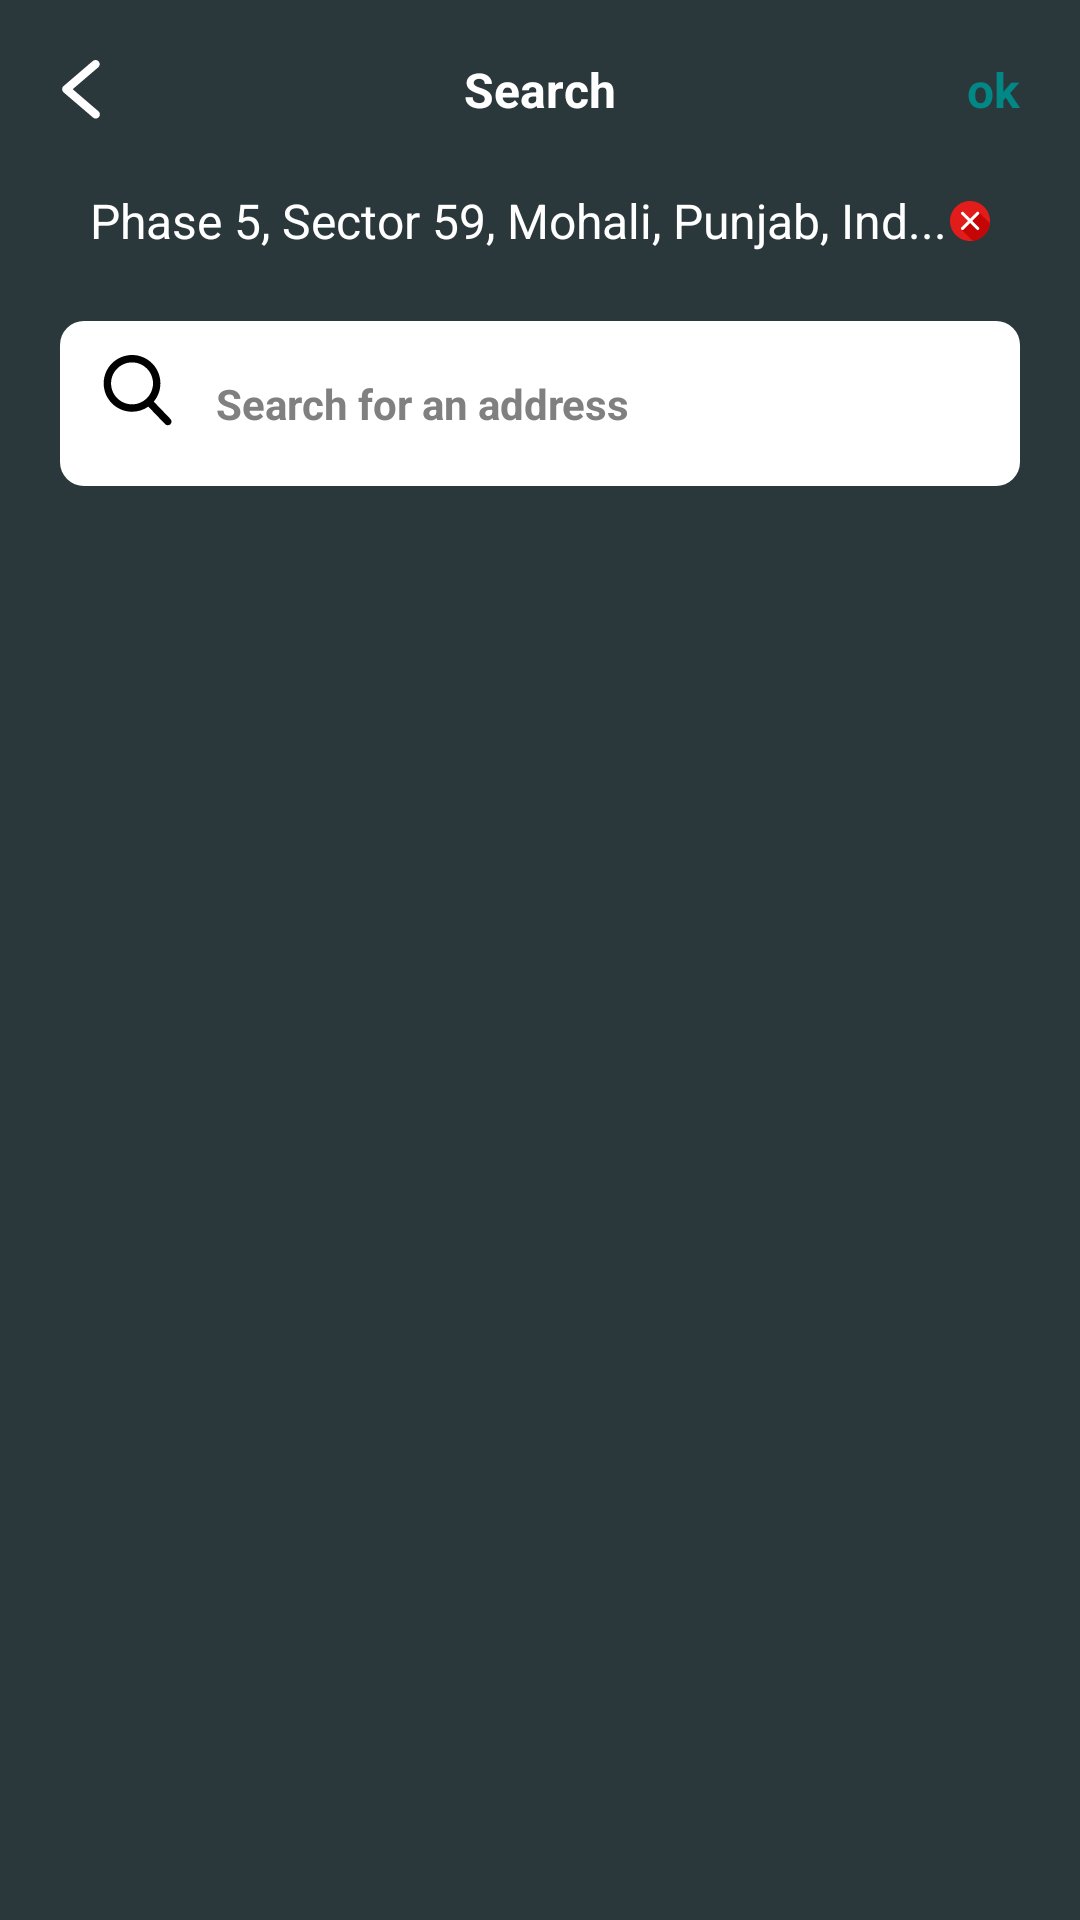

Screen size 1080 x 1920. Icon name, then its center in pixels as (x,y):
backarrow: (81,89)
